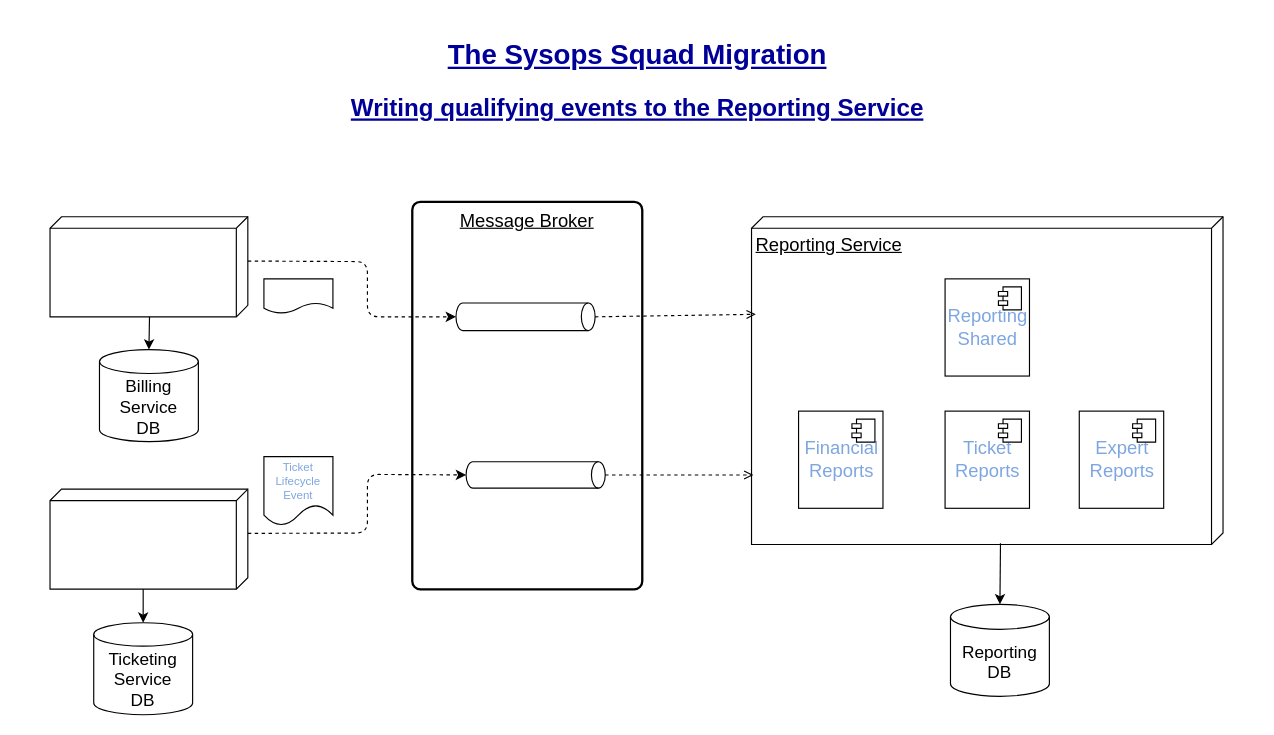
Some shapes in this 1274 by 735 pixel diagram are drawn without their labels. The centre of each missing label's shape, as x and y in pixels:
"Billing Event" goes at (298,295).
"Billing Service" goes at (148,266).
"Financial Reporting Queue" goes at (525,316).
"Ticket Reporting Queue" goes at (535,474).
"Ticketing Service" goes at (148,538).
